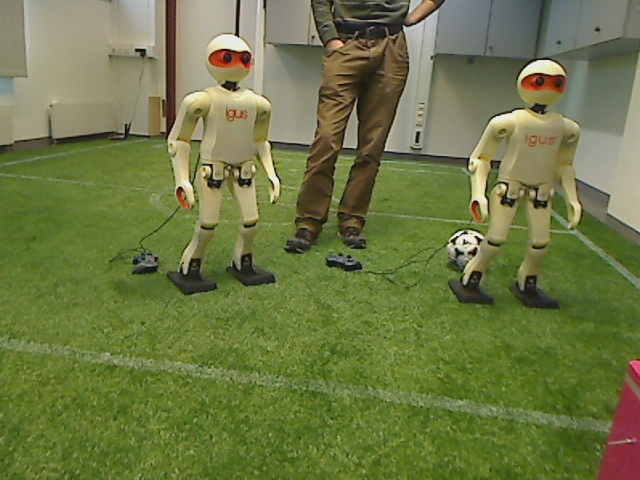ball: (444, 227, 485, 275)
robot: (459, 57, 584, 313), (166, 31, 286, 297)
